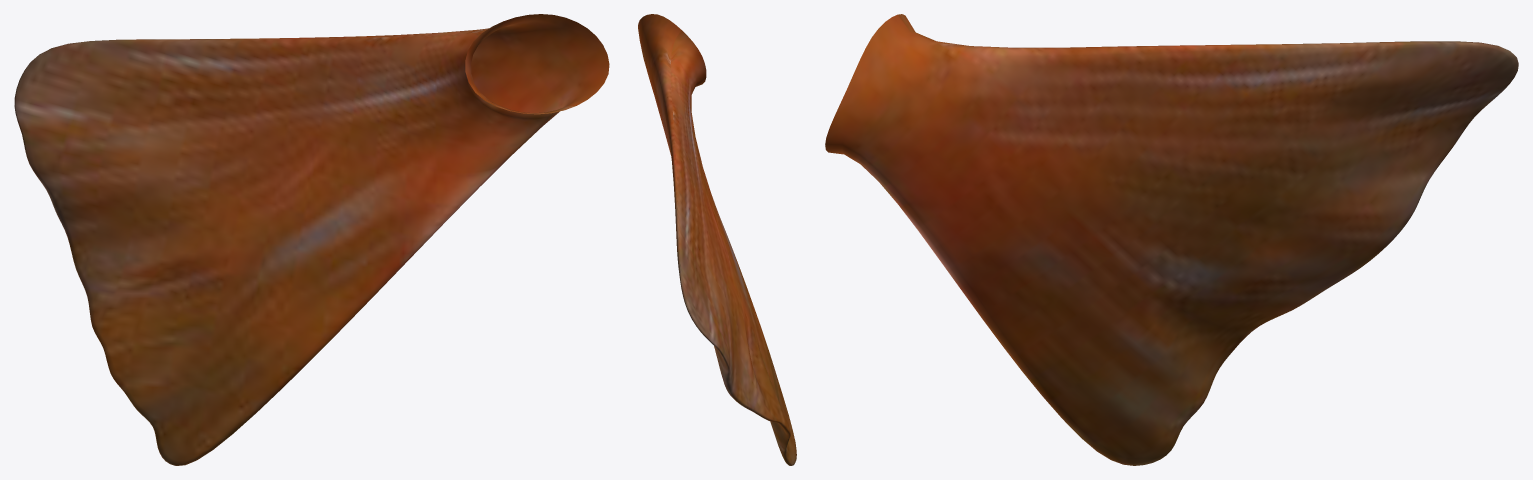
Rendered from aletaIzquierda.obj.
3 views of the same model, side by side, from view 1: azimuth 30°, elevation 25°; view 2: azimuth 150°, elevation 25°; view 3: azimuth 270°, elevation 25° (orthographic). The views are drawn at different scales.
Visible parts, largest first — view 1: aletaIzquierda; view 2: aletaIzquierda; view 3: aletaIzquierda.
Part boxes in pixels (x1=…): aletaIzquierda: x1=14, y1=14, x2=609, y2=465; aletaIzquierda: x1=638, y1=14, x2=796, y2=465; aletaIzquierda: x1=825, y1=14, x2=1518, y2=465.
Bounding box in the file's own units: 1.56 × 1.95 × 2.
1 material, 1 textured.
